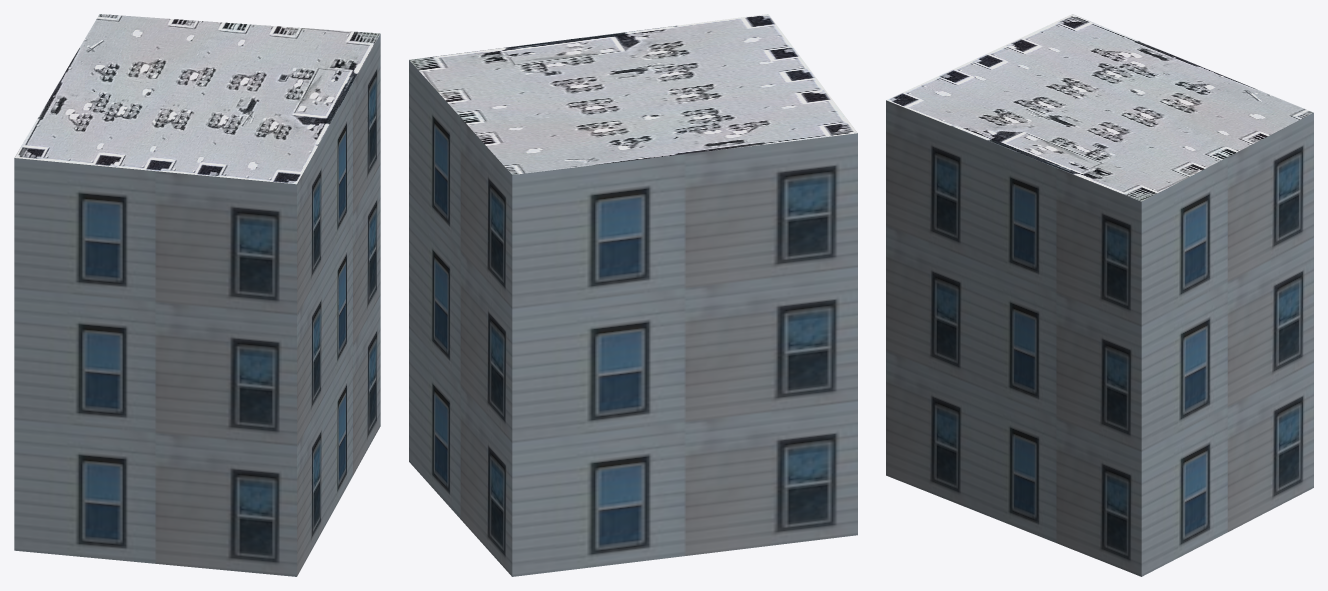
File: ResTex__4921.fbx
The picture shows the model from 3 angles, left to right: view 1: azimuth 30°, elevation 25°; view 2: azimuth 150°, elevation 25°; view 3: azimuth 270°, elevation 25°; orthographic projection. The views are drawn at different scales.
Visible parts, largest first — view 1: CityEngineMaterial_18_m, CityEngineMaterial_4_m; view 2: CityEngineMaterial_18_m, CityEngineMaterial_4_m; view 3: CityEngineMaterial_18_m, CityEngineMaterial_4_m.
Boxes of the visible parts, <box> form: CityEngineMaterial_18_m: <box>14,34,380,576</box>; CityEngineMaterial_4_m: <box>14,14,380,184</box>; CityEngineMaterial_18_m: <box>409,60,857,576</box>; CityEngineMaterial_4_m: <box>409,14,857,174</box>; CityEngineMaterial_18_m: <box>886,100,1313,576</box>; CityEngineMaterial_4_m: <box>886,14,1313,201</box>.
Bounding box in the file's own units: 9.66 × 9 × 9.3.
2 materials, 2 textured.
